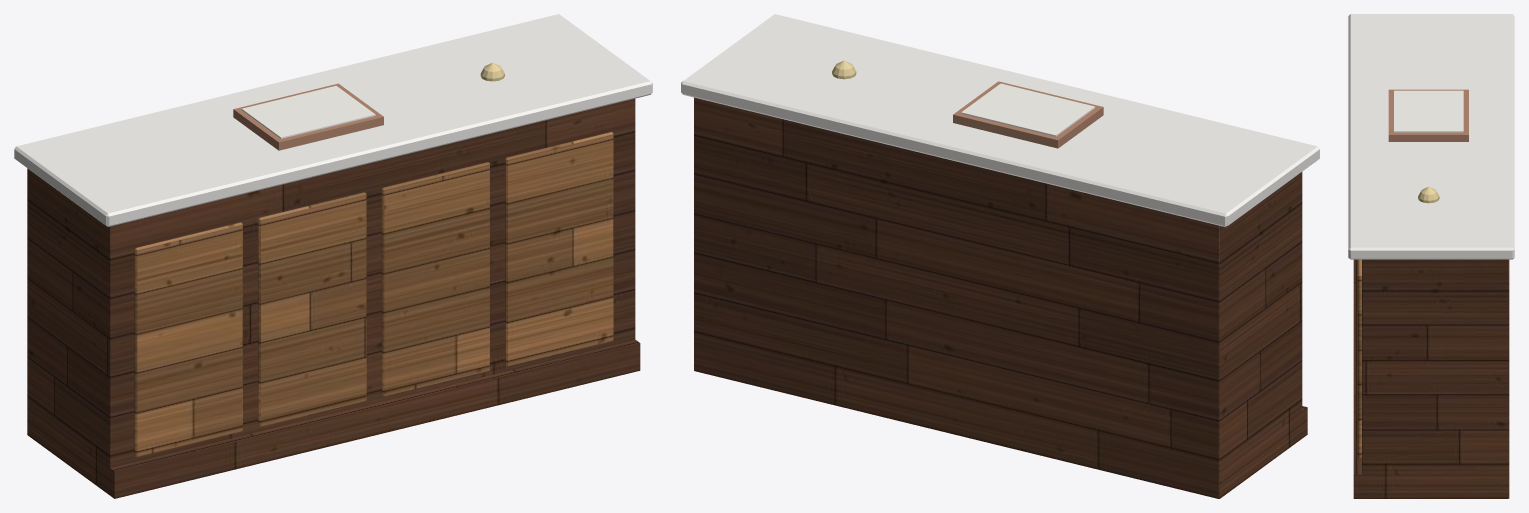
The model's file is reception.glb.
The picture shows the model from 3 angles, left to right: view 1: azimuth 30°, elevation 25°; view 2: azimuth 150°, elevation 25°; view 3: azimuth 270°, elevation 25°; orthographic projection. The views are drawn at different scales.
Visible parts, largest first — view 1: reception_oak, reception_dkwood, reception_marble_w, reception_linen, reception_leather; view 2: reception_dkwood, reception_marble_w, reception_linen, reception_leather; view 3: reception_dkwood, reception_marble_w, reception_linen, reception_leather, reception_oak, reception_brass.
Part boxes in pixels (x1,y1,x2,y2): reception_oak: (134, 132, 613, 457); reception_dkwood: (27, 98, 640, 498); reception_marble_w: (14, 14, 652, 226); reception_linen: (241, 85, 375, 138); reception_leather: (233, 83, 383, 150); reception_dkwood: (694, 97, 1307, 498); reception_marble_w: (681, 14, 1319, 227); reception_linen: (961, 83, 1095, 136); reception_leather: (953, 81, 1103, 148); reception_dkwood: (1353, 259, 1509, 498); reception_marble_w: (1348, 14, 1514, 259); reception_linen: (1394, 90, 1463, 132); reception_leather: (1388, 89, 1468, 141); reception_oak: (1357, 259, 1361, 458); reception_brass: (1418, 186, 1439, 203).
Bounding box in the file's own units: 2.08 × 1.1 × 0.62.
6 materials, 2 textured.
